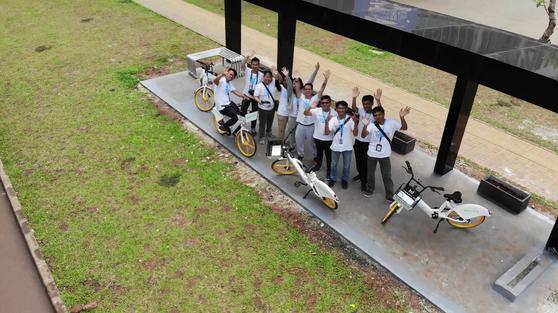bike: (378, 157, 497, 241), (260, 122, 345, 217), (208, 102, 261, 160), (190, 59, 218, 116)
